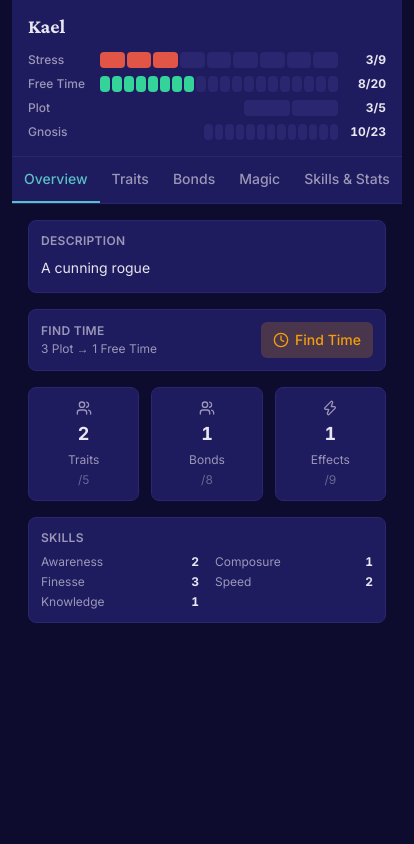
Scenario: character sheet — Find Time › Find Time success: toast shown
Expected: the element named "Plot: 3 of 5" is shown, [28,100,386,116]
Click the button with aria-label "find time (costs 3 plot" at (317, 340), box [261,322,373,358]
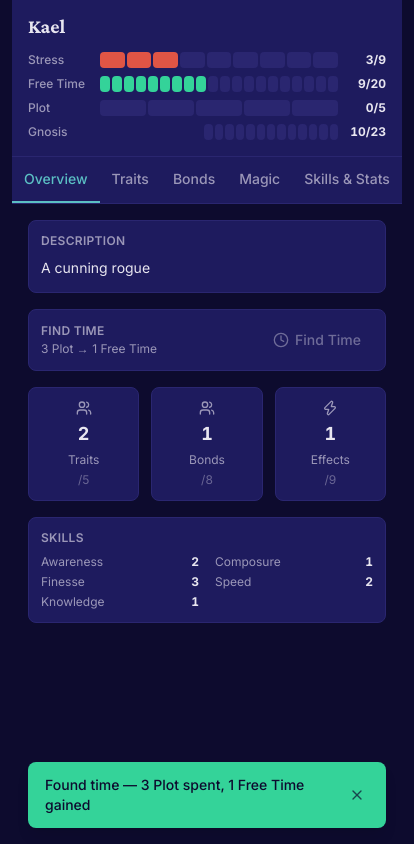
Expected: the text "Found time — 3 Plot spent, 1 Free Time gained" is shown, [45,775,333,815]
